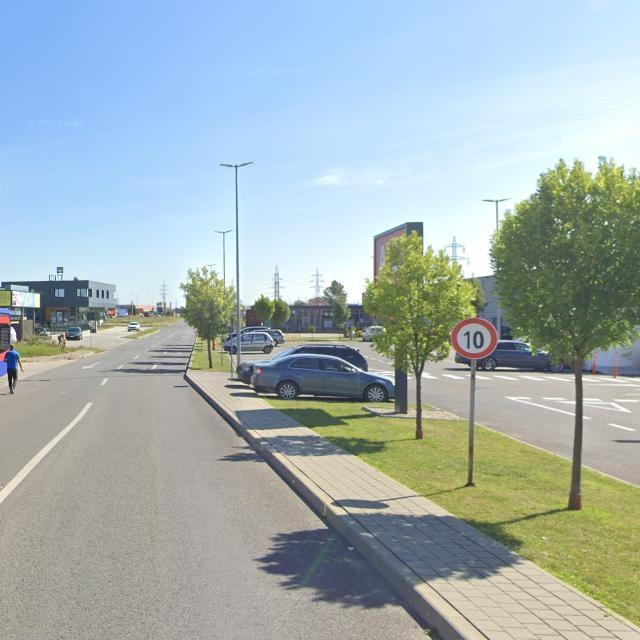forb_speed_over_10: (451, 318, 498, 360)
